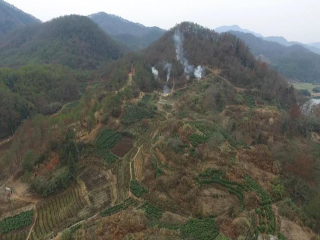smoke: (150, 30, 205, 96)
